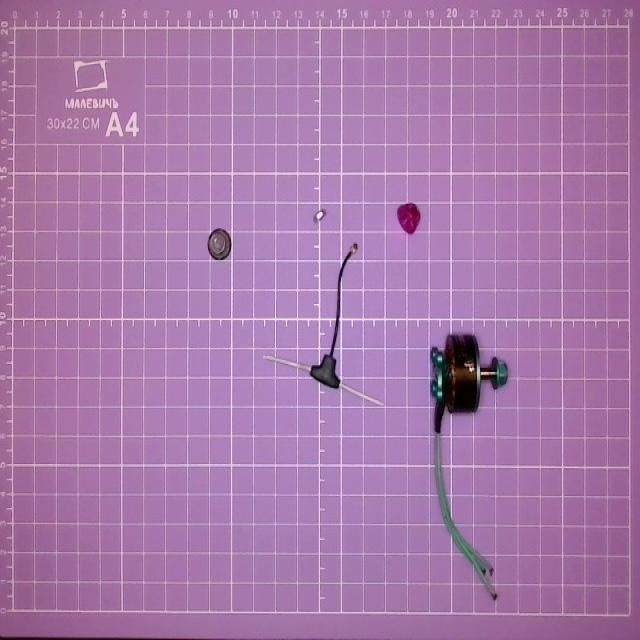antenna: (266, 240, 387, 414)
motor: (423, 326, 519, 607)
screw_M3: (311, 208, 329, 225)
screw_M5: (391, 193, 423, 241), (208, 222, 232, 262)
